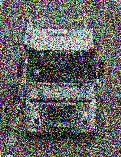truck: (18, 18, 104, 136)
